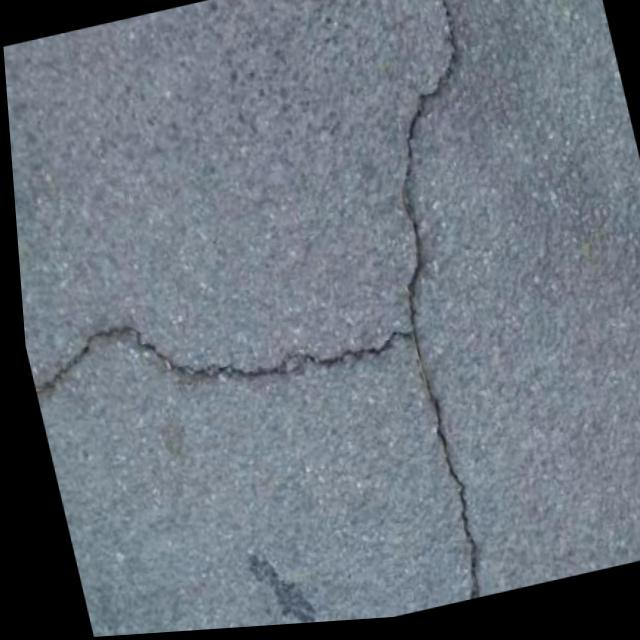Crack: (319, 0, 591, 609), (15, 242, 417, 469)
